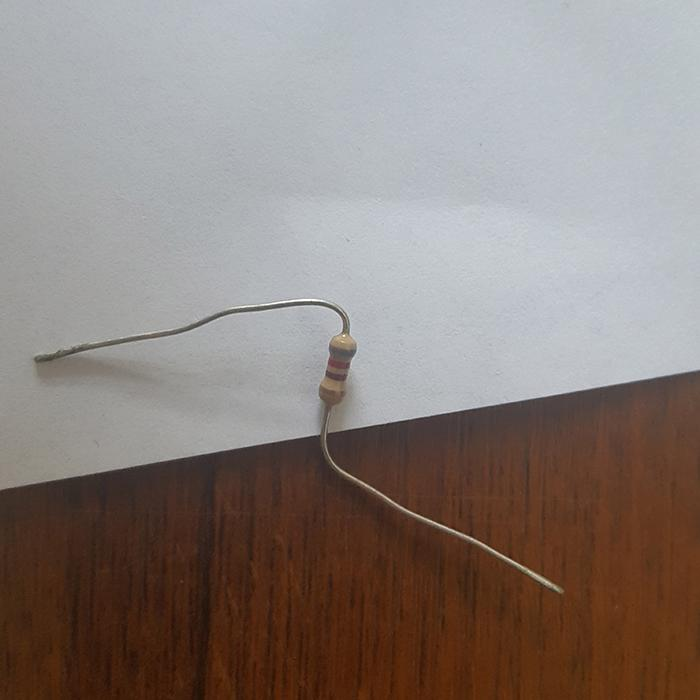resistor: (318, 331, 357, 406)
